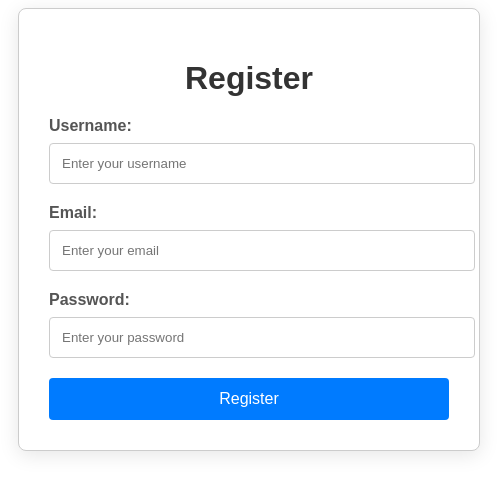
Scenario: Registration Form › displays password length error when password is too short
Type "testuser" into the field named "username".
click(262, 164); type("testuser")  # box [49,143,475,184]
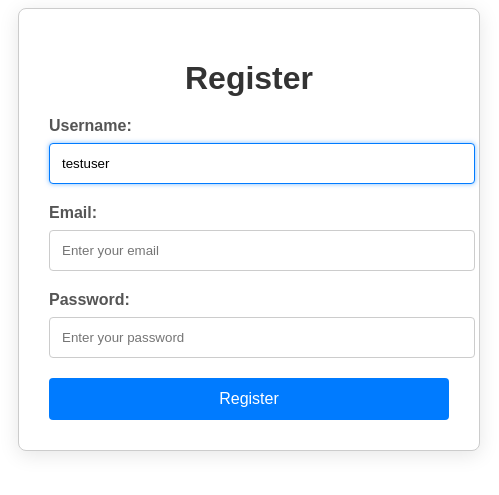
Type "test@example.com" into the field named "email".
click(262, 251); type("test@example.com")  # box [49,230,475,271]
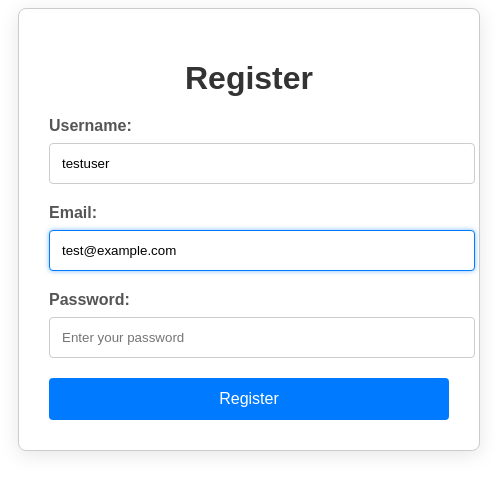
Type "123" into the password field named "password".
click(262, 338); type("123")  # box [49,317,475,358]
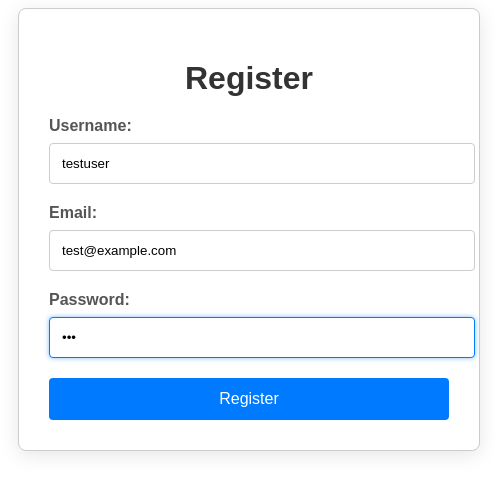
Click the submit button.
click(249, 399)  # box [49,378,449,420]
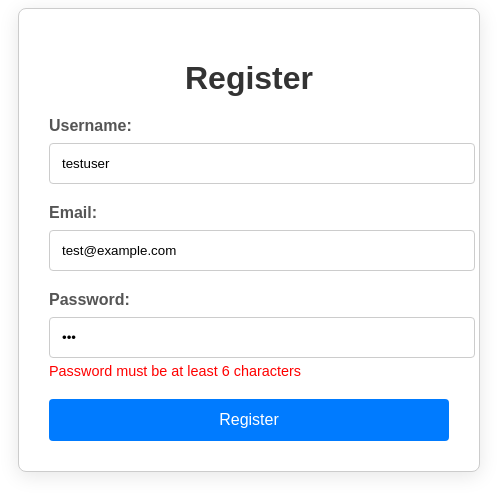
Now the text "Password must be at least 6 characters" is shown, box [49,363,301,379]
